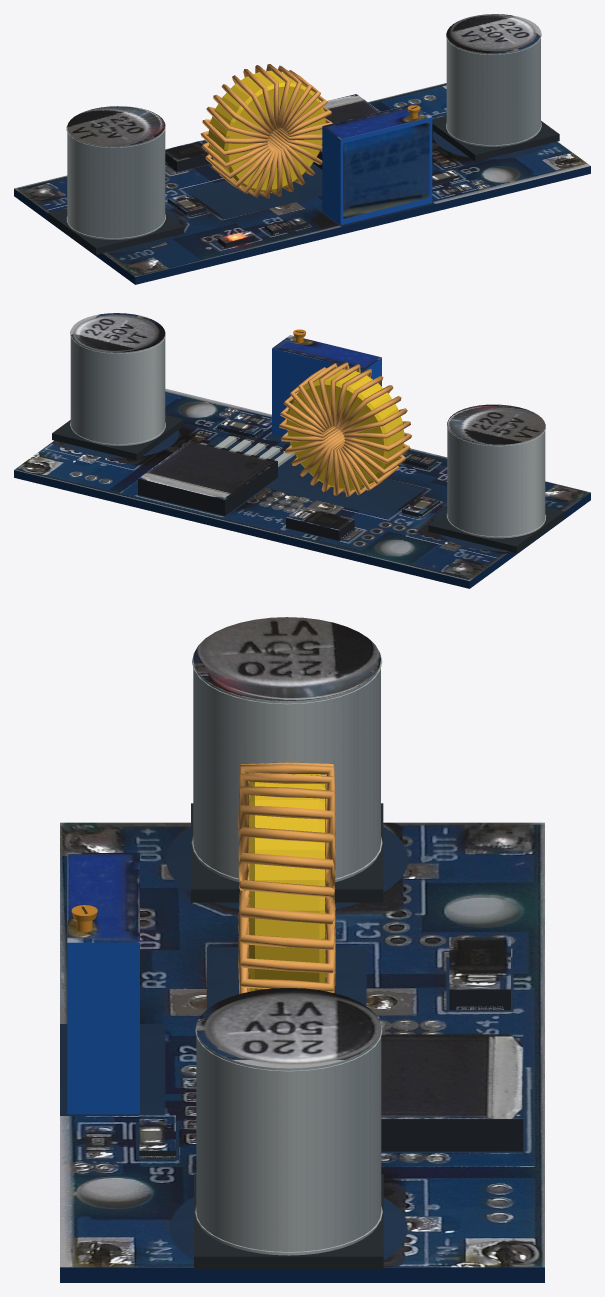
The model's file is board-v3.glb.
3 renders of one model, top to bottom at view 1: azimuth 30°, elevation 25°; view 2: azimuth 150°, elevation 25°; view 3: azimuth 270°, elevation 25°, orthographic. The views are drawn at different scales.
Visible parts, largest first — view 1: PCB photo-based reconstruction; component heights are visual, substrate; view 2: PCB photo-based reconstruction; component heights are visual, substrate; view 3: PCB photo-based reconstruction; component heights are visual, substrate.
Part boxes in pixels (x1,y1,x2,y2): PCB photo-based reconstruction; component heights are visual: (14,14,590,276); substrate: (14,166,590,284); PCB photo-based reconstruction; component heights are visual: (14,313,590,580); substrate: (14,470,590,588); PCB photo-based reconstruction; component heights are visual: (60,617,544,1269); substrate: (60,1267,544,1282).
Bounding box in the file's own units: 102 × 26.08 × 46.1.
Materials: 21 (12 with a texture image).
